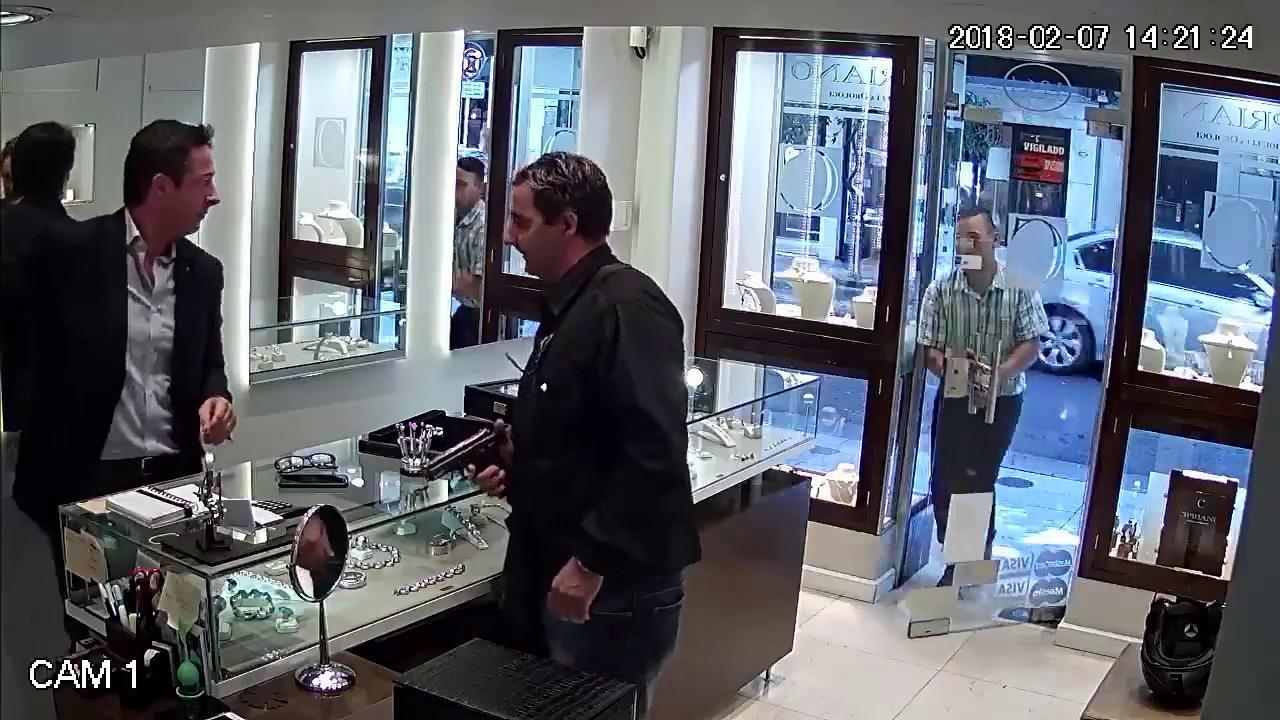Guns: (401, 407, 531, 506)
